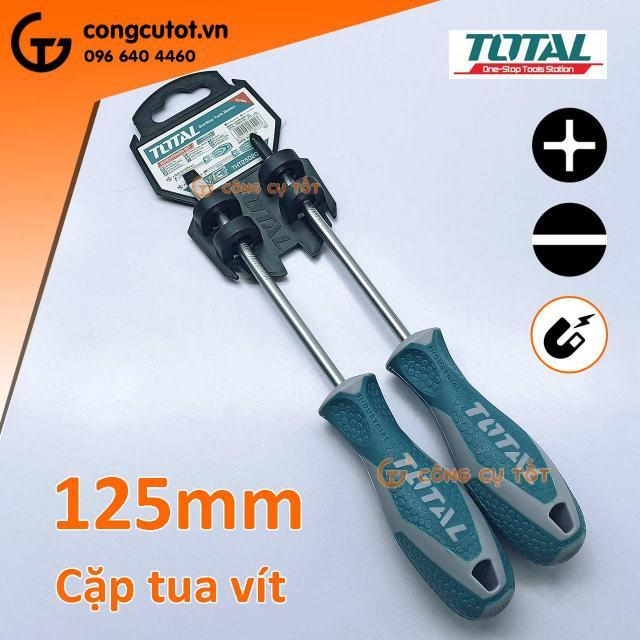screwdriver: (178, 162, 518, 622), (243, 129, 588, 567)
